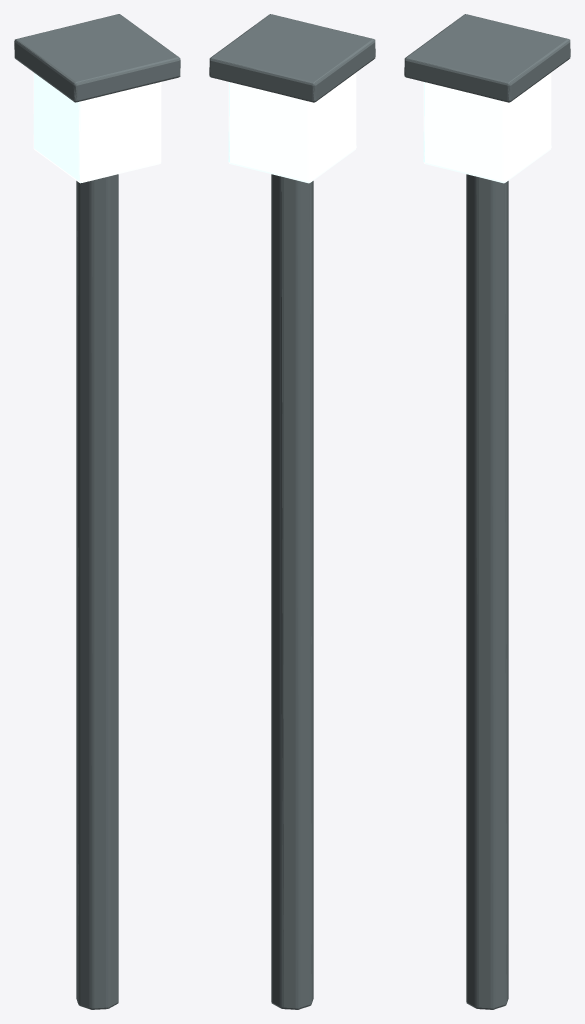
Rendered from SM_Kurpark_Lantern.fbx.
The picture shows the model from 3 angles, left to right: view 1: azimuth 30°, elevation 25°; view 2: azimuth 150°, elevation 25°; view 3: azimuth 330°, elevation 25°; orthographic projection.
Parts seen in each view (by area): view 1: LOD0_SM_Kurpark_Lantern, LOD1_SM_Kurpark_Lantern, LOD2_SM_Kurpark_Lantern; view 2: LOD0_SM_Kurpark_Lantern, LOD1_SM_Kurpark_Lantern, LOD2_SM_Kurpark_Lantern; view 3: LOD0_SM_Kurpark_Lantern, LOD1_SM_Kurpark_Lantern, LOD2_SM_Kurpark_Lantern.
Boxes of the visible parts, bbox=[...] form: LOD0_SM_Kurpark_Lantern: bbox=[14, 14, 180, 1009]; LOD1_SM_Kurpark_Lantern: bbox=[14, 14, 180, 1009]; LOD2_SM_Kurpark_Lantern: bbox=[14, 39, 179, 638]; LOD0_SM_Kurpark_Lantern: bbox=[209, 14, 375, 1009]; LOD1_SM_Kurpark_Lantern: bbox=[209, 14, 375, 1009]; LOD2_SM_Kurpark_Lantern: bbox=[210, 14, 375, 1009]; LOD0_SM_Kurpark_Lantern: bbox=[404, 14, 570, 1009]; LOD1_SM_Kurpark_Lantern: bbox=[404, 14, 570, 1009]; LOD2_SM_Kurpark_Lantern: bbox=[405, 14, 570, 1009].
Bounding box in the file's own units: 0.44 × 3.76 × 0.44.
